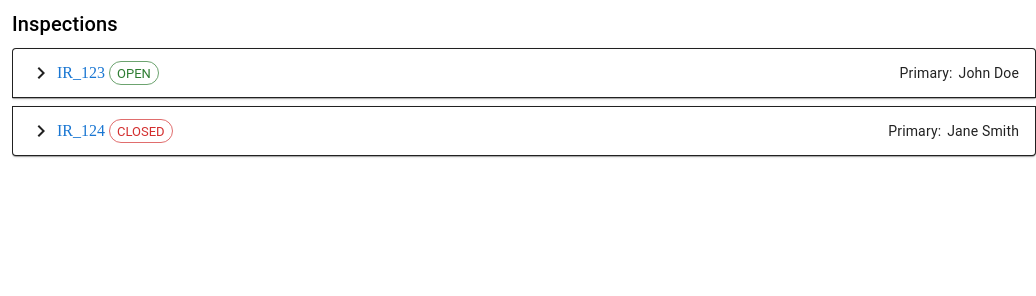
Test case: CaseFileInspectionsTable › collapses accordion when clicked again
// Expand the first accordion
Click the button "IR_123 OPEN Primary: John Doe" at point(134, 73), box 29,61 -> 1019,85
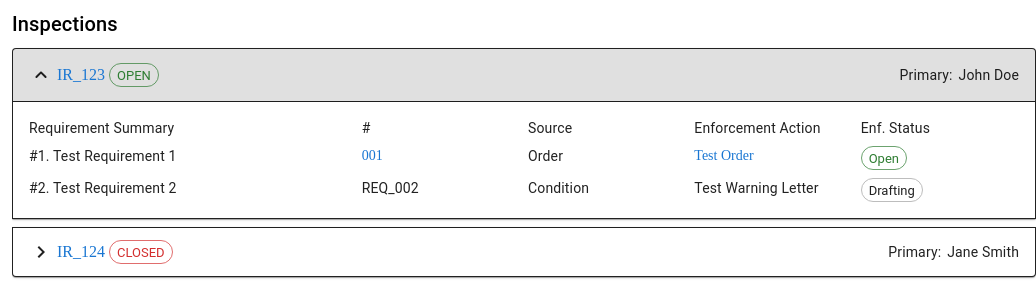
Check: the text "Requirement Summary" is shown, box 29,120 -> 174,136
// Click again to collapse
Click the button "IR_123 OPEN Primary: John Doe" at point(134, 75), box 13,49 -> 1035,102
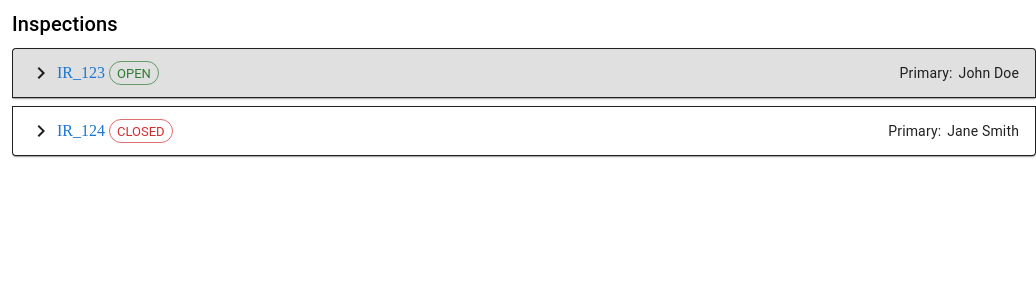
Check: the text "Requirement Summary" is gone
